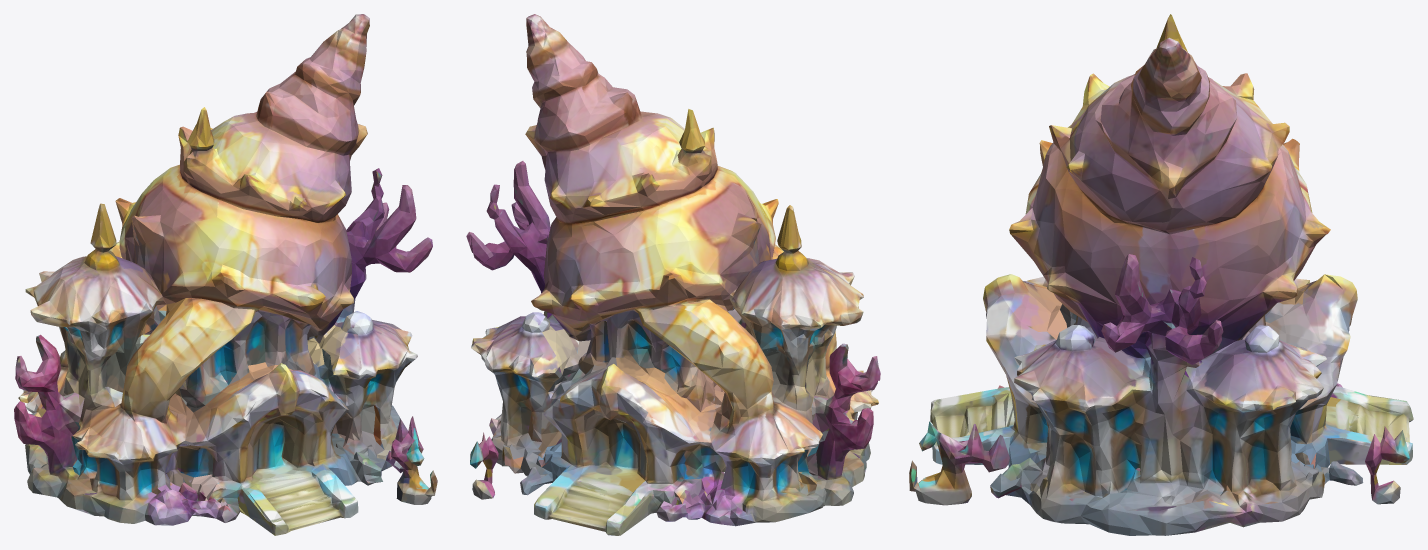
Rendered from sea_shell_palace_1117.glb.
3 views of the same model, side by side, from view 1: azimuth 30°, elevation 25°; view 2: azimuth 150°, elevation 25°; view 3: azimuth 270°, elevation 25° (orthographic). The views are drawn at different scales.
Visible parts, largest first — view 1: tmpame3yk1y.ply; view 2: tmpame3yk1y.ply; view 3: tmpame3yk1y.ply.
Part boxes in pixels (bbox=[...]): tmpame3yk1y.ply: bbox=[14, 14, 437, 535]; tmpame3yk1y.ply: bbox=[466, 14, 880, 535]; tmpame3yk1y.ply: bbox=[909, 14, 1413, 535].
Size of the model in its own units: 1.99 by 1.96 by 1.85.
1 material, 1 textured.
